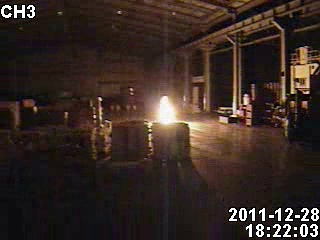fire: (155, 92, 179, 128)
